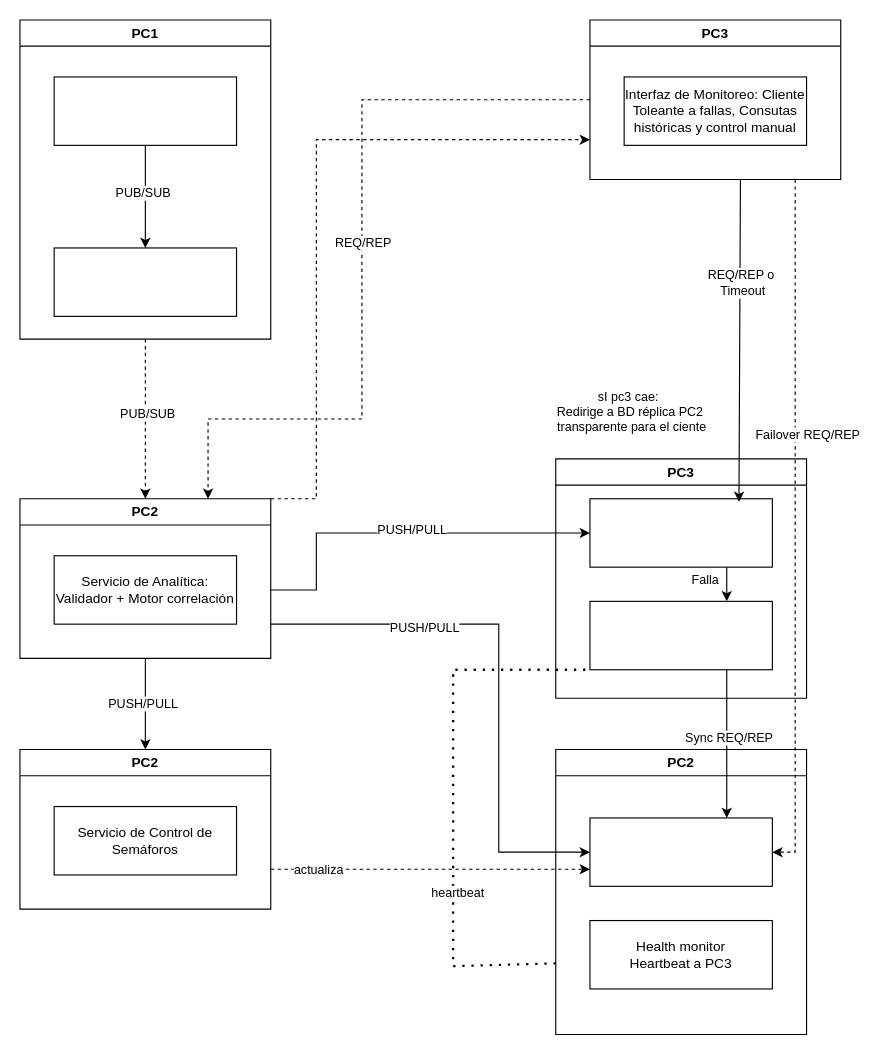
Some shapes in this 879 by 1055 pixel diagram are drawn without their labels. The centre of each missing label's shape, as x and y in pixels:
BD Principal PC3: SQLite: point (680, 532)
BD Réplica PC2: SQLite: point (680, 851)
Broker ZMQ: XSUB/XPUB: point (145, 281)
Detector de falla Timeout / health check: point (680, 635)
Simulador de Sensores: CAM, ESP, GPS: point (145, 110)
